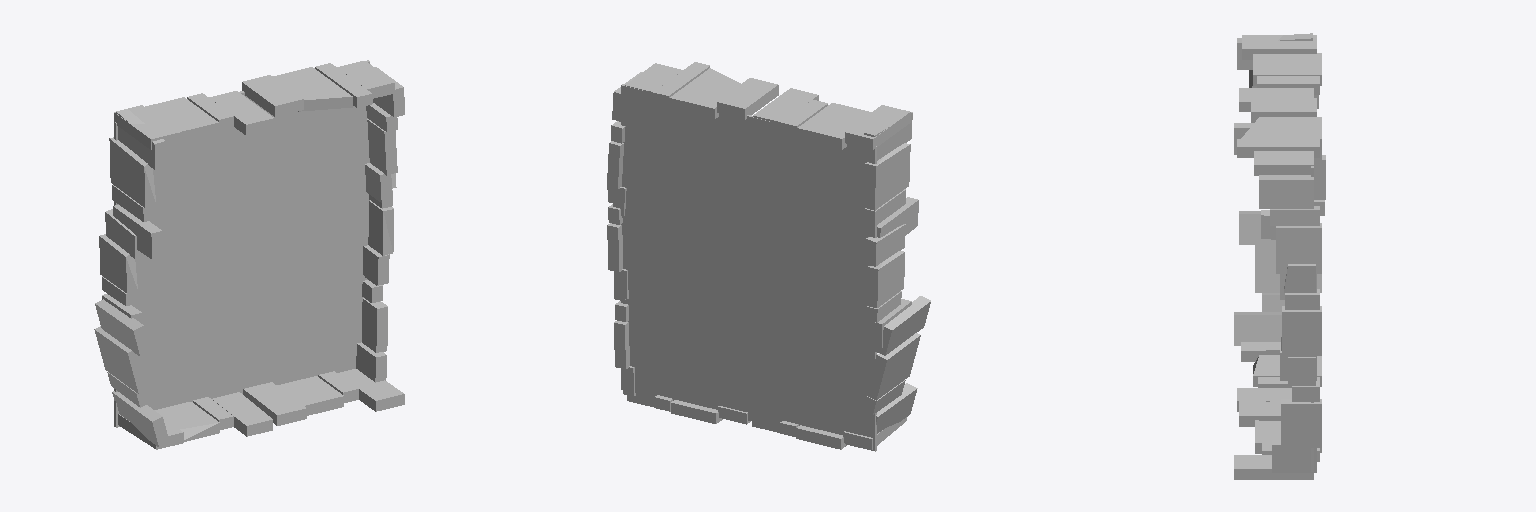
File: map.obj
The picture shows the model from 3 angles: view 1: azimuth 30°, elevation 25°; view 2: azimuth 150°, elevation 25°; view 3: azimuth 270°, elevation 25°; orthographic projection.
Parts seen in each view (by area): view 1: Cube, Cube.001, Cube.002, Cube.009, Cube.003, Cube.008, Cube.004, Cube.010, Cube.006, Cube.005, Cube.007; view 2: Cube, Cube.001, Cube.002, Cube.009, Cube.008, Cube.010, Cube.004, Cube.003, Cube.006, Cube.005, Cube.007; view 3: Cube.001, Cube.006, Cube.002, Cube.005, Cube.009, Cube.007, Cube.003, Cube.004, Cube.010, Cube.008.
Boxes of the visible parts, x1,y1,x2,y2 form: Cube: [114, 60, 369, 427]; Cube.001: [242, 61, 394, 116]; Cube.002: [114, 91, 273, 149]; Cube.009: [94, 299, 169, 447]; Cube.003: [243, 369, 404, 425]; Cube.008: [109, 109, 165, 259]; Cube.004: [118, 392, 272, 449]; Cube.010: [99, 209, 145, 323]; Cube.006: [365, 67, 404, 202]; Cube.005: [356, 277, 387, 382]; Cube.007: [363, 173, 396, 285]; Cube: [621, 84, 876, 451]; Cube.001: [625, 62, 778, 119]; Cube.002: [753, 88, 910, 149]; Cube.009: [862, 296, 930, 433]; Cube.008: [864, 112, 918, 237]; Cube.010: [865, 224, 911, 348]; Cube.004: [752, 417, 906, 449]; Cube.003: [627, 393, 750, 424]; Cube.006: [607, 72, 642, 216]; Cube.005: [614, 271, 635, 396]; Cube.007: [607, 187, 628, 298]; Cube.001: [1237, 98, 1321, 175]; Cube.006: [1259, 175, 1321, 299]; Cube.002: [1239, 35, 1321, 111]; Cube.005: [1272, 357, 1321, 472]; Cube.009: [1234, 211, 1321, 345]; Cube.007: [1280, 264, 1321, 380]; Cube.003: [1234, 401, 1321, 479]; Cube.004: [1237, 342, 1321, 411]; Cube.010: [1261, 150, 1325, 239]; Cube.008: [1234, 33, 1318, 154].
Bounding box in the file's own units: 77.57 × 84.34 × 21.77.